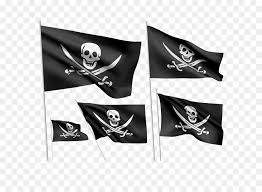Jolly Roger Flag: (38, 23, 141, 99), (146, 24, 227, 86), (155, 93, 226, 148), (76, 101, 150, 144), (48, 119, 92, 143)
